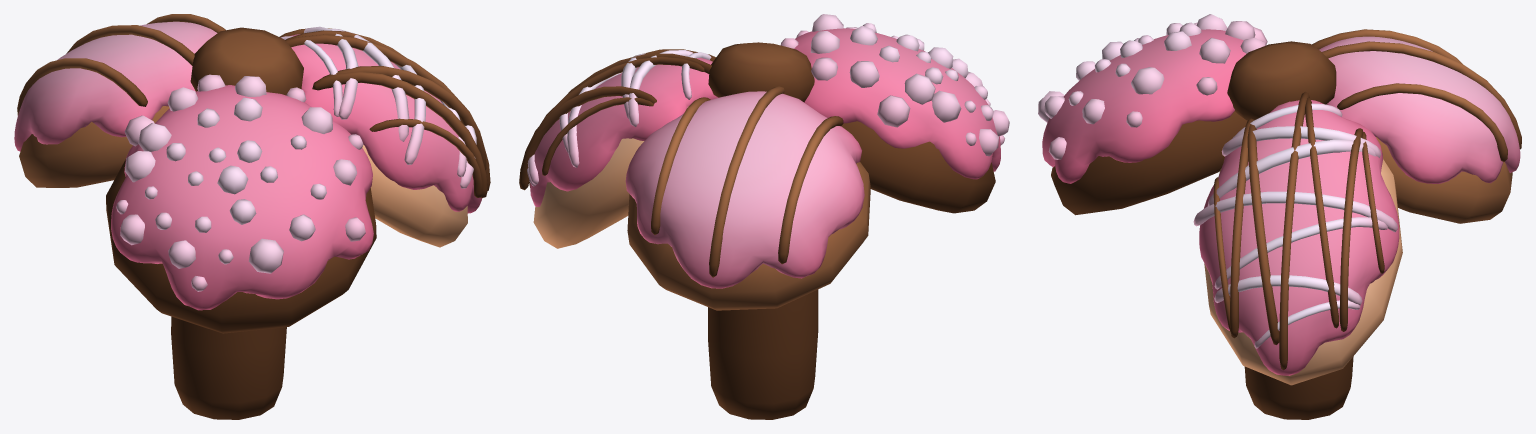
The model's file is cw_PlantsFlowers_26.fbx.
3 views of the same model, side by side, from view 1: azimuth 30°, elevation 25°; view 2: azimuth 150°, elevation 25°; view 3: azimuth 270°, elevation 25° (orthographic). The views are drawn at different scales.
Parts seen in each view (by area): view 1: cw_pf_26; view 2: cw_pf_26; view 3: cw_pf_26.
Boxes of the visible parts, left/top/right/bottom form: cw_pf_26: left=14, top=14, right=490, bottom=419; cw_pf_26: left=519, top=14, right=1009, bottom=419; cw_pf_26: left=1038, top=14, right=1521, bottom=419.
Bounding box in the file's own units: 151 × 121 × 151.
